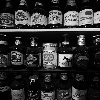beer: (26, 38, 41, 69)
